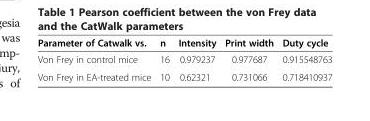table: (36, 36, 331, 82)
table column: (36, 36, 154, 82), (219, 36, 277, 82), (277, 36, 331, 82), (173, 36, 219, 82), (154, 36, 173, 82)
table column header: (36, 36, 331, 50)
table row: (36, 50, 331, 67), (36, 67, 331, 82), (36, 36, 331, 50)
